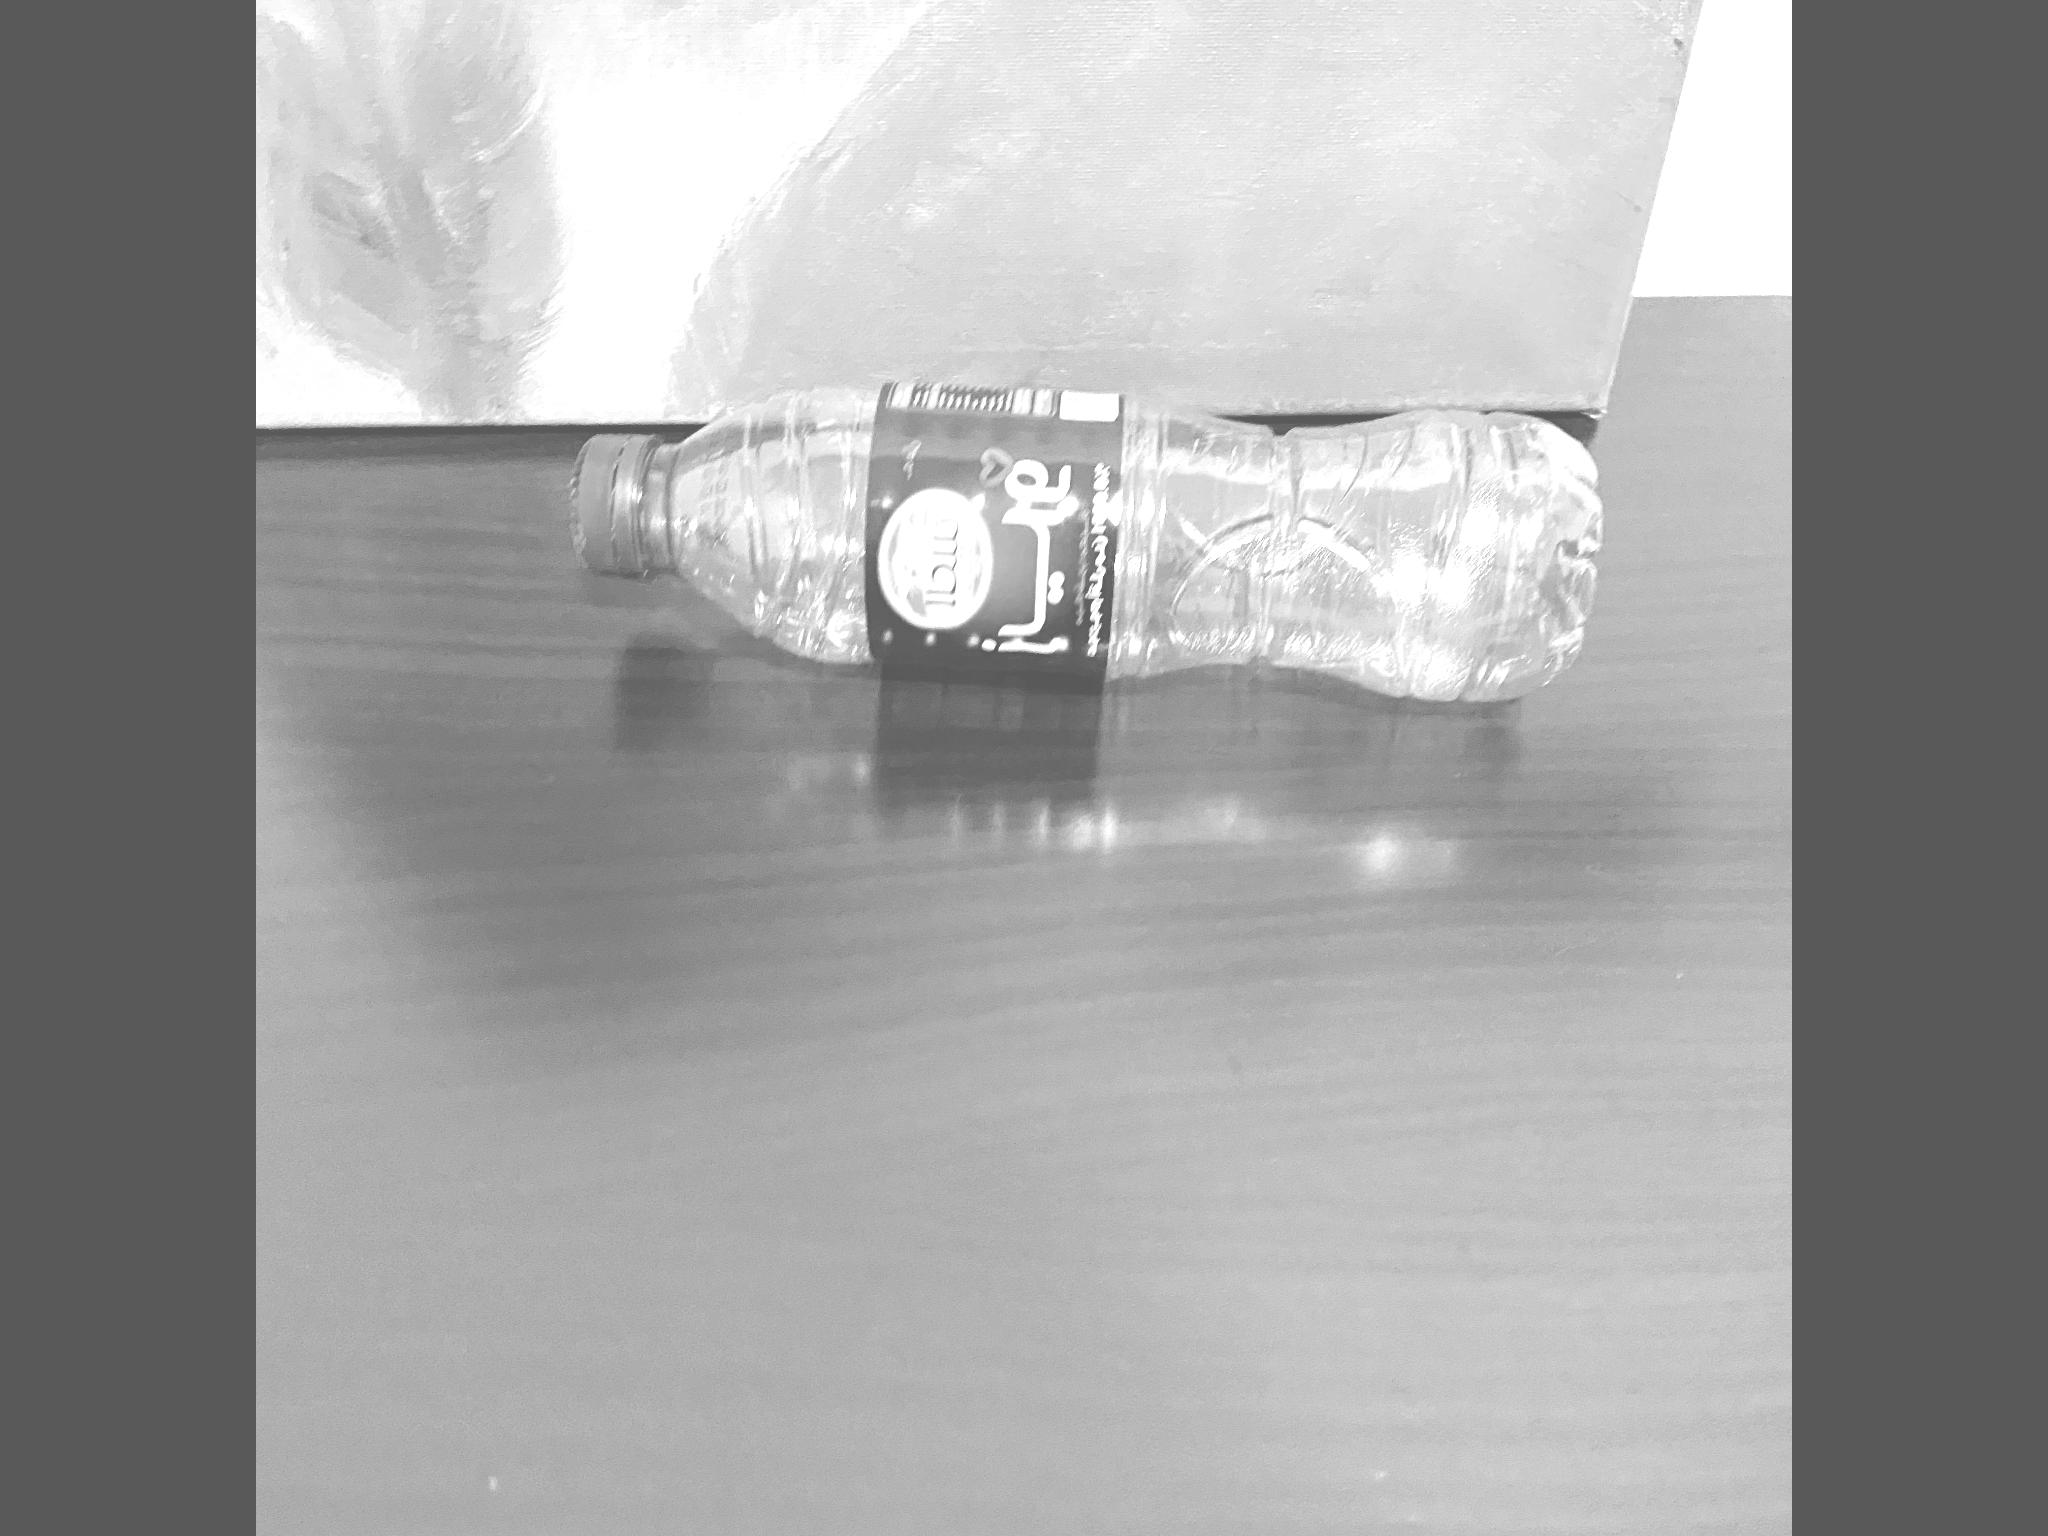bottle: (537, 355, 1600, 715)
